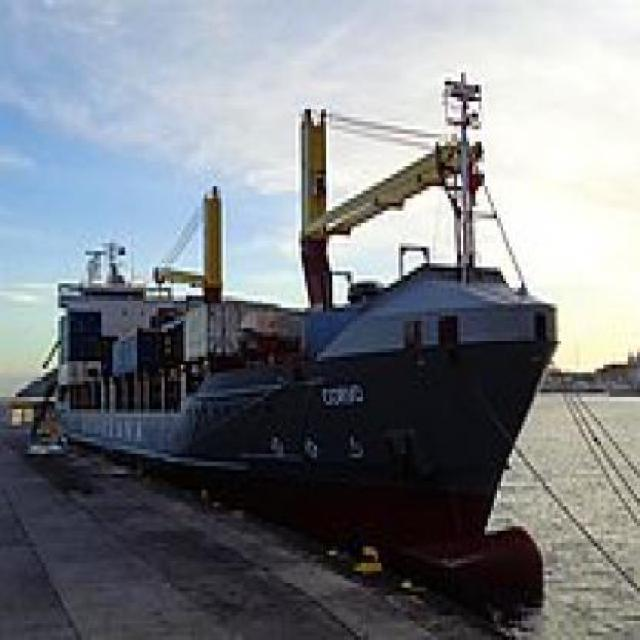container: (37, 62, 571, 613)
